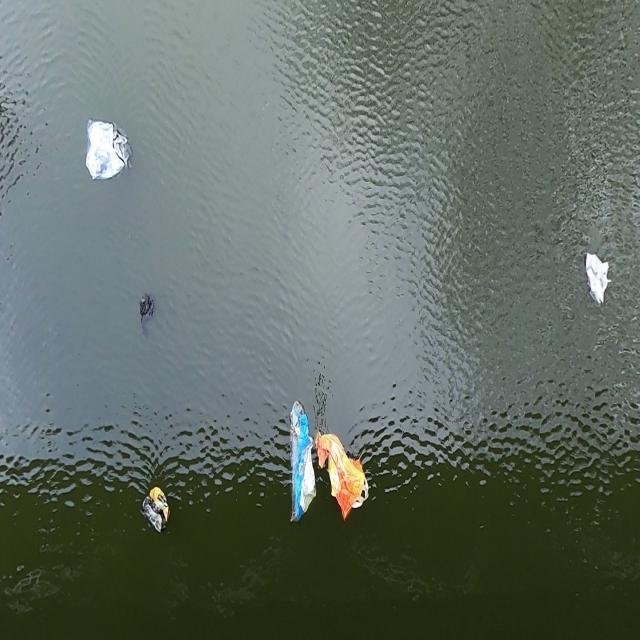Sac plastique: (314, 422, 372, 522), (283, 399, 318, 528), (80, 116, 138, 184), (582, 248, 616, 310), (139, 487, 177, 539), (135, 286, 166, 341)
